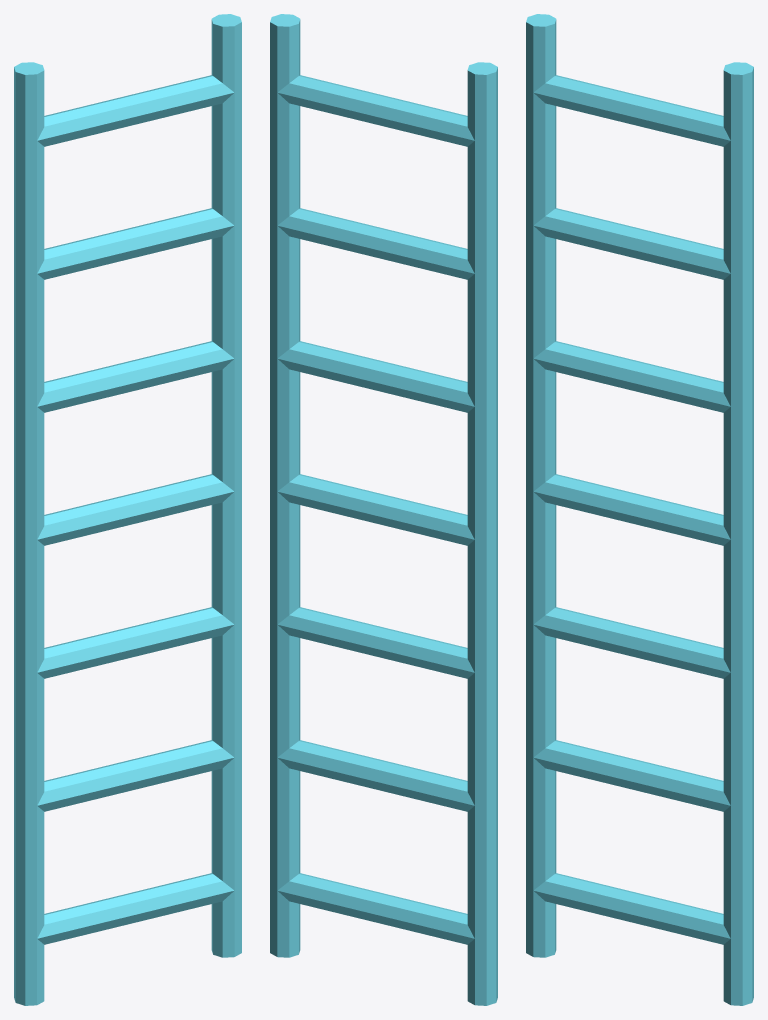
Rendered from Ladder.glb.
3 views of the same model, side by side, from view 1: azimuth 30°, elevation 25°; view 2: azimuth 150°, elevation 25°; view 3: azimuth 330°, elevation 25° (orthographic).
Visible parts, largest first — view 1: Ladder; view 2: Ladder; view 3: Ladder.
Boxes of the visible parts, left/top/right/bottom form: Ladder: left=14, top=14, right=241, bottom=1005; Ladder: left=270, top=14, right=497, bottom=1005; Ladder: left=526, top=14, right=753, bottom=1005.
Bounding box in the file's own units: 0.7729 × 3.06 × 0.0936.
